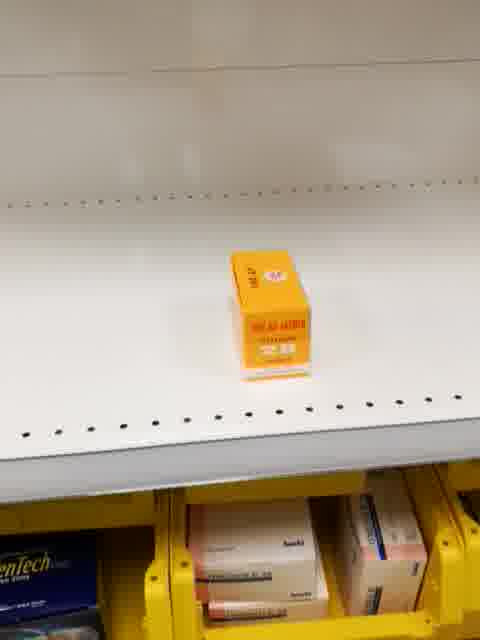jasminetea: (228, 246, 316, 382)
